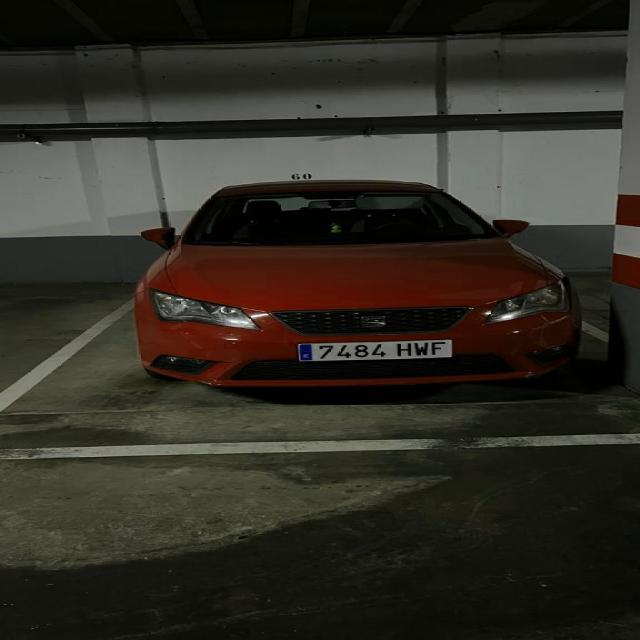License-Plate: (296, 338, 454, 362)
